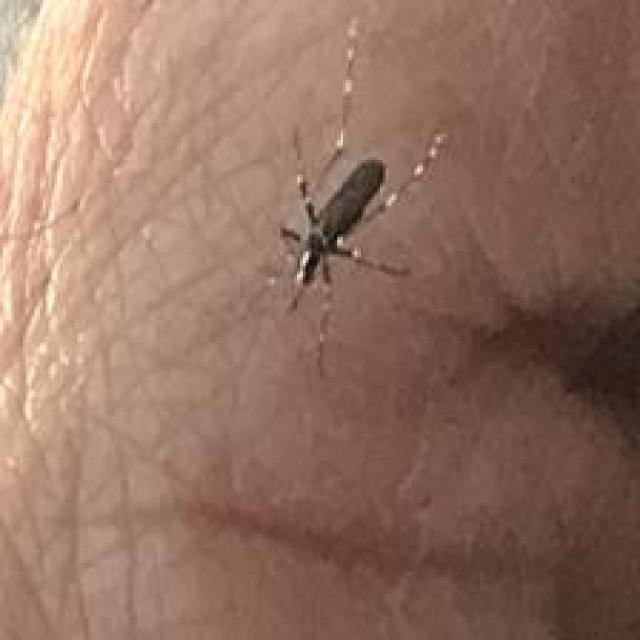Aedes albopictus: (276, 14, 447, 314)
